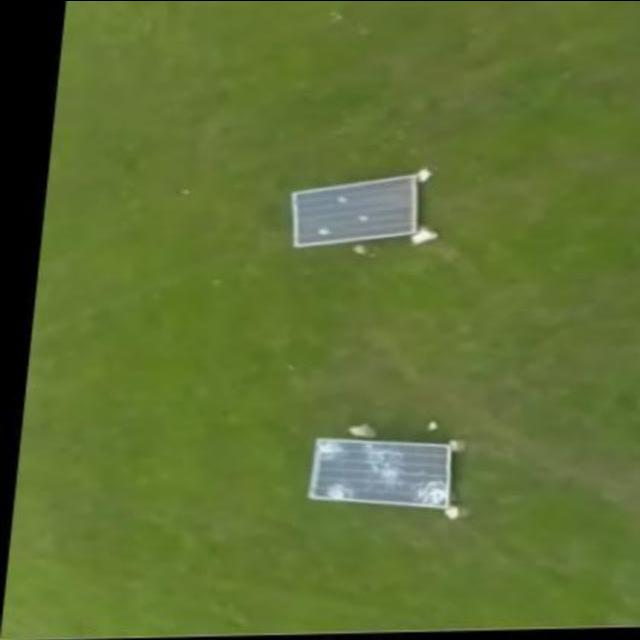cracked: (306, 436, 457, 509)
soiled: (287, 174, 422, 247)
